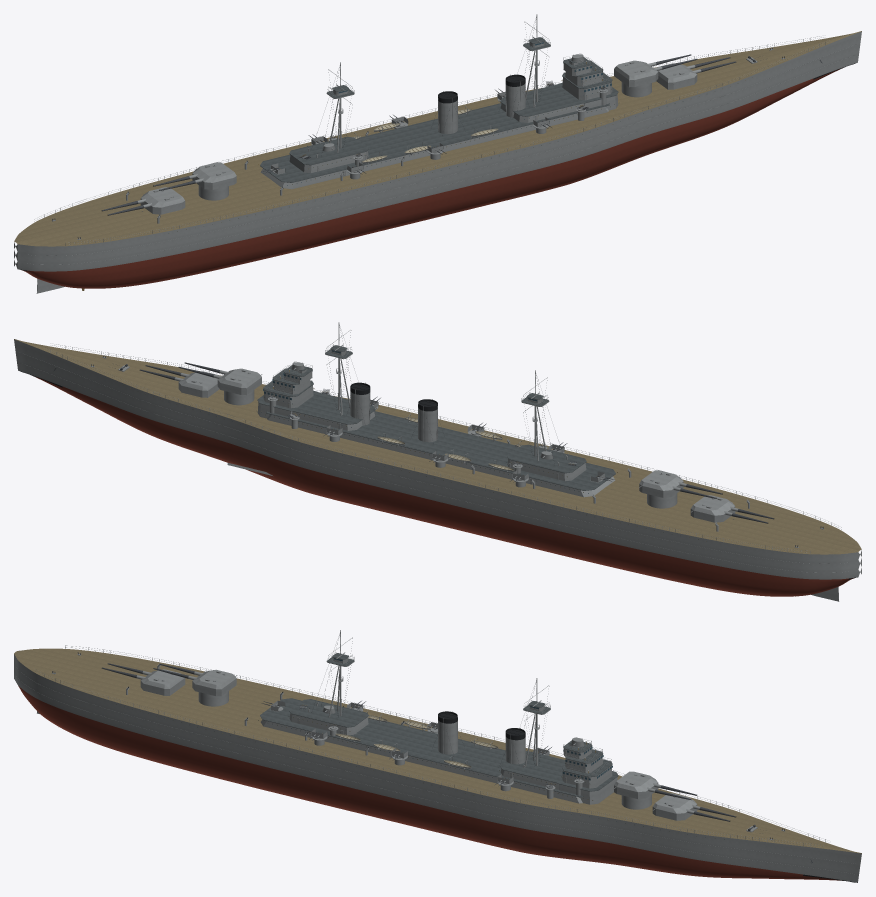
File: demo-hood1941.glb
The picture shows the model from 3 angles, top to bottom: view 1: azimuth 30°, elevation 25°; view 2: azimuth 150°, elevation 25°; view 3: azimuth 330°, elevation 25°; orthographic projection.
Parts seen in each view (by area): view 1: HMS Hood — 1941 battle fit; view 2: HMS Hood — 1941 battle fit; view 3: HMS Hood — 1941 battle fit.
Part boxes in pixels (bbox=[...]): HMS Hood — 1941 battle fit: bbox=[14, 14, 861, 293]; HMS Hood — 1941 battle fit: bbox=[14, 322, 861, 601]; HMS Hood — 1941 battle fit: bbox=[14, 630, 861, 882].
Bounding box in the file's own units: 262 × 47.33 × 31.89.
Materials: 9 (8 with a texture image).
